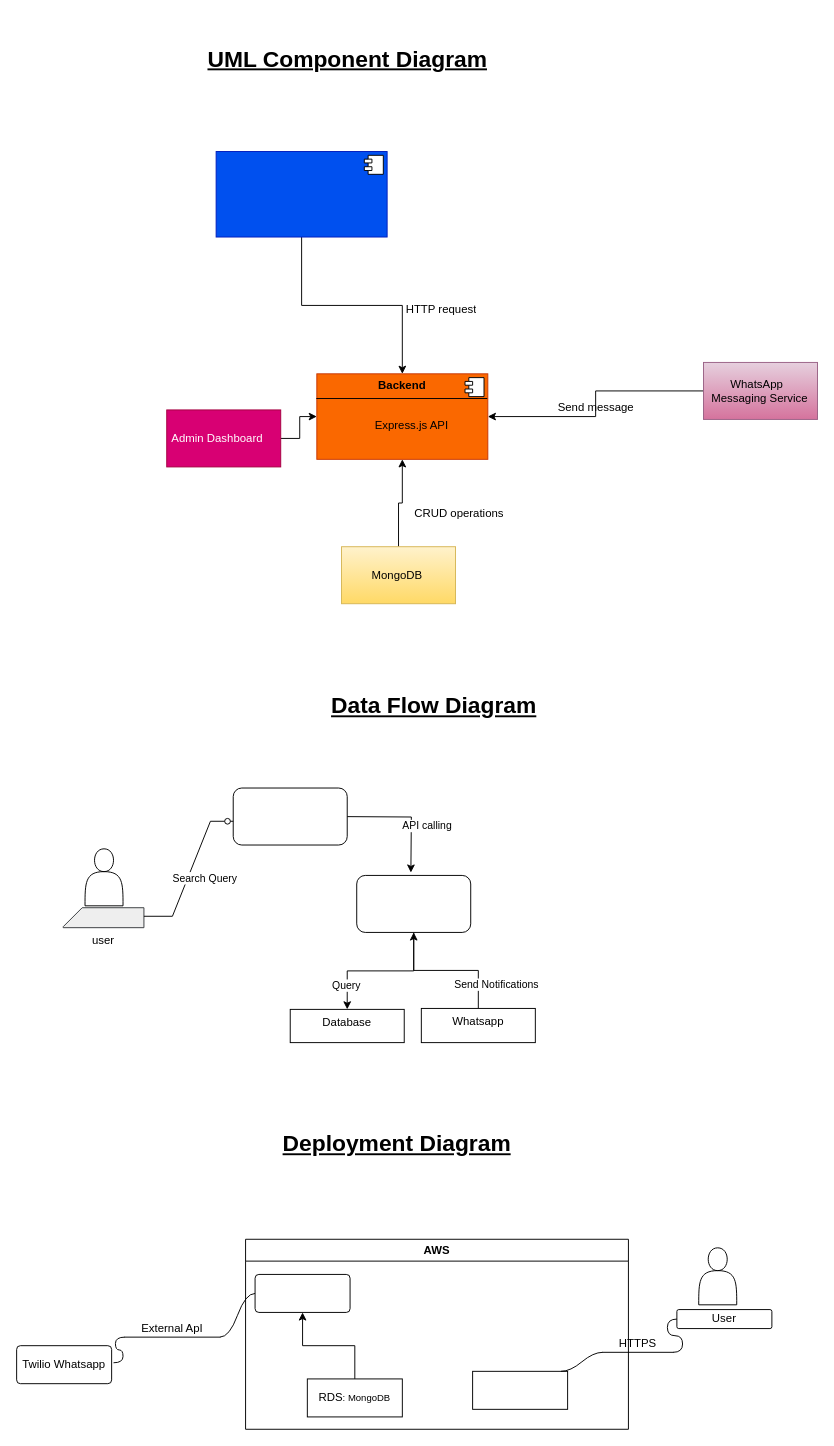
Image size: 834x1446. Some labels were removed from this diagram. The centre of each missing label's shape, as x and y in pixels:
"Backend" belongs at [413,903].
"EC2: Express.js Backend" belongs at [302,1292].
"Frontend" belongs at [289,816].
"Frontend React App" belongs at [301,194].
"S3: React statics files" belongs at [520,1389].
